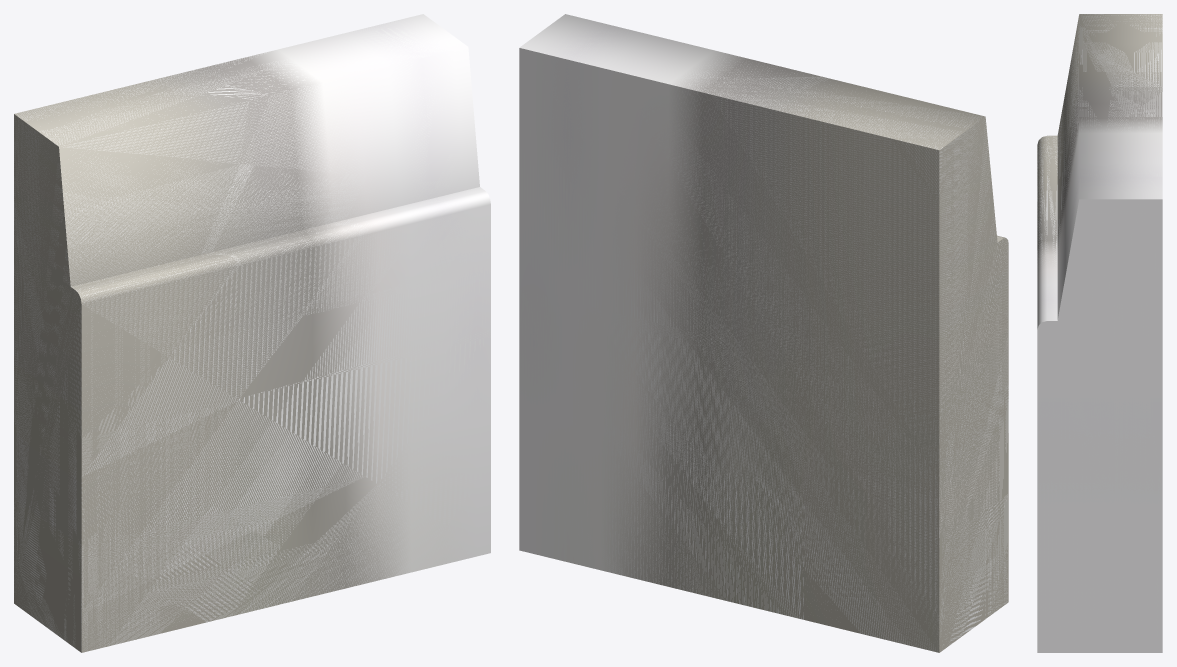
The model's file is original-44.obj.
The picture shows the model from 3 angles, left to right: view 1: azimuth 30°, elevation 25°; view 2: azimuth 150°, elevation 25°; view 3: azimuth 270°, elevation 25°; orthographic projection. The views are drawn at different scales.
Parts seen in each view (by area): view 1: DF_31_B1/DF_31_B/mesh23/mesh23-geometry#mesh23-geometry; view 2: DF_31_B1/DF_31_B/mesh23/mesh23-geometry#mesh23-geometry; view 3: DF_31_B1/DF_31_B/mesh23/mesh23-geometry#mesh23-geometry.
Boxes of the visible parts, x1,y1,x2,y2 form: DF_31_B1/DF_31_B/mesh23/mesh23-geometry#mesh23-geometry: (14, 14, 490, 652); DF_31_B1/DF_31_B/mesh23/mesh23-geometry#mesh23-geometry: (519, 14, 1008, 652); DF_31_B1/DF_31_B/mesh23/mesh23-geometry#mesh23-geometry: (1037, 14, 1162, 652).
Size of the model in its own units: 0.1277 by 0.1459 by 0.0365.
